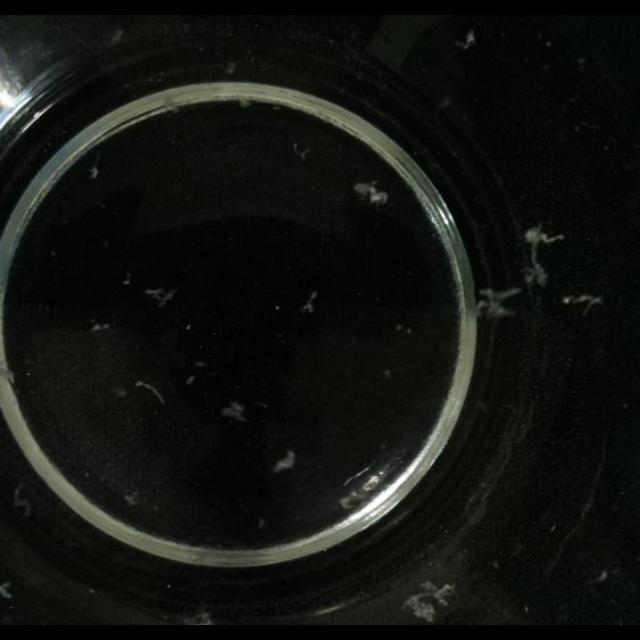Fibre: (403, 582, 457, 622), (475, 286, 521, 320), (562, 294, 606, 316), (354, 180, 388, 206), (144, 287, 180, 309), (134, 380, 164, 406), (522, 260, 548, 288), (12, 482, 32, 516), (272, 450, 296, 474), (220, 402, 248, 422), (456, 28, 476, 50), (182, 610, 212, 624), (302, 292, 318, 314), (292, 142, 310, 160), (0, 581, 14, 599), (124, 492, 140, 506), (90, 321, 110, 332), (88, 167, 100, 179)
microbeads: (595, 570, 607, 582)
